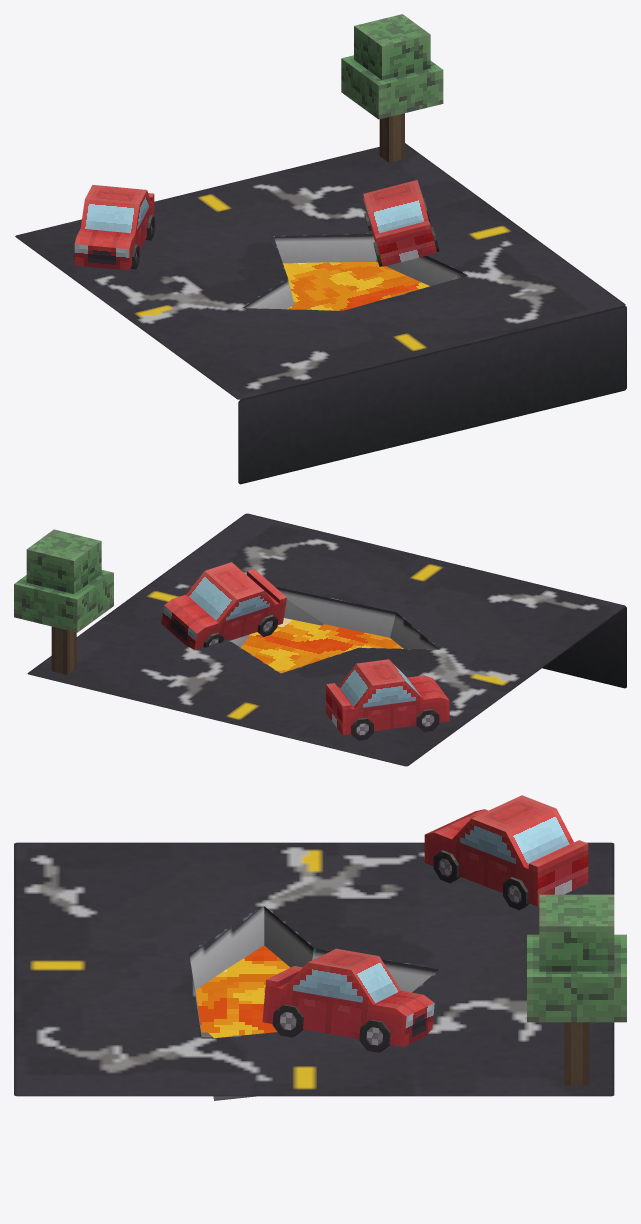
Rendered from cross2.fbx.
3 views of the same model, one above another, from view 1: azimuth 30°, elevation 25°; view 2: azimuth 150°, elevation 25°; view 3: azimuth 270°, elevation 25° (orthographic). The views are drawn at different scales.
Parts seen in each view (by area): view 1: floor, tree, carmain_1, cube_2, carmain; view 2: floor, tree, carmain, carmain_1, cube_2, cube_1, cube; view 3: floor, tree, carmain_1, carmain, cube_2, cube, cube_1.
Part boxes in pixels (x1,y1,x2,y2): floor: (15, 143, 626, 484); tree: (341, 14, 443, 162); carmain_1: (74, 185, 154, 270); cube_2: (283, 262, 429, 310); carmain: (363, 180, 437, 266); floor: (27, 513, 626, 766); tree: (14, 529, 113, 674); carmain: (161, 562, 286, 649); carmain_1: (326, 659, 449, 735); cube_2: (241, 618, 403, 673); cube_1: (351, 709, 439, 740); cube: (203, 614, 278, 647); floor: (14, 842, 614, 1100); tree: (527, 894, 626, 1085); carmain_1: (424, 795, 588, 906); carmain: (262, 948, 434, 1046); cube_2: (195, 945, 290, 1038); cube: (272, 1004, 390, 1052); cube_1: (433, 850, 529, 909).
Bounding box in the file's own units: 306 × 156 × 306.
Materials: 4 (4 with a texture image).
